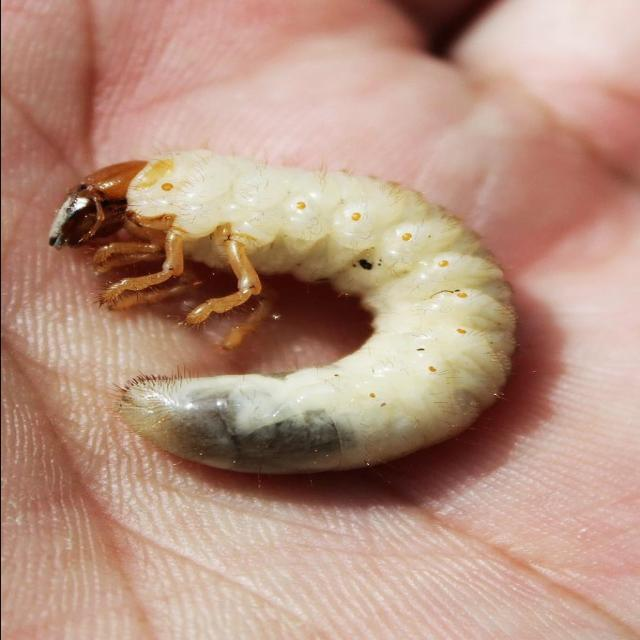grub: (44, 151, 534, 503)
